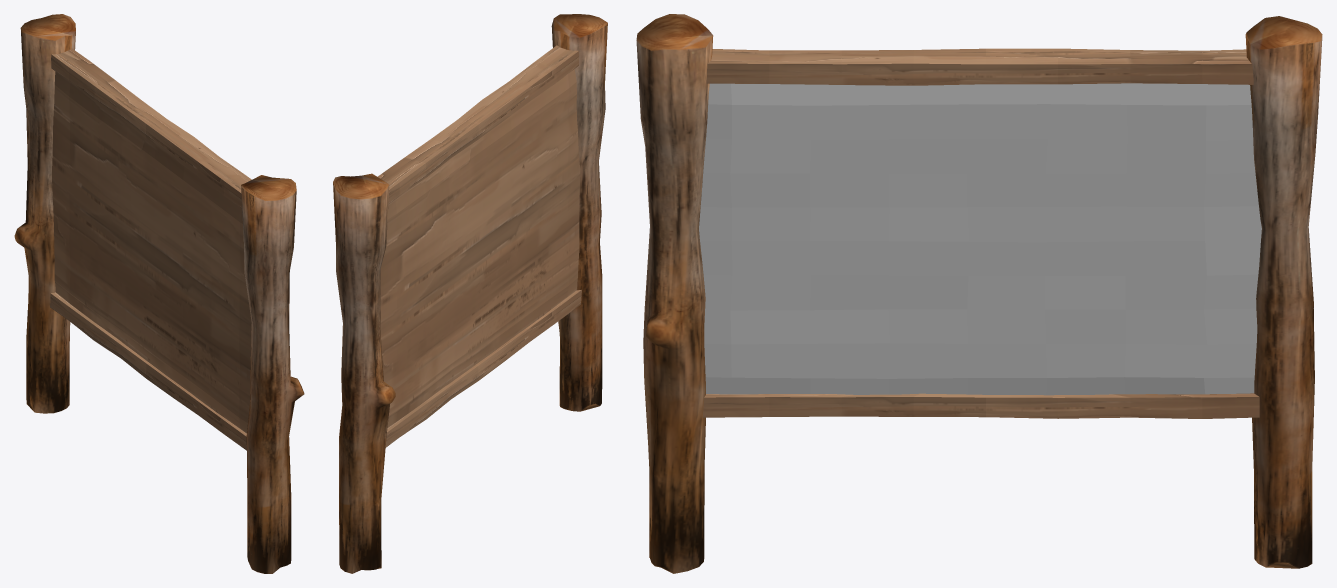
File: billboard.fbx
3 views of the same model, side by side, from view 1: azimuth 30°, elevation 25°; view 2: azimuth 150°, elevation 25°; view 3: azimuth 270°, elevation 25° (orthographic). The views are drawn at different scales.
Parts seen in each view (by area): view 1: Cube; view 2: Cube; view 3: Cube.
Part boxes in pixels (left/top/right/bottom): Cube: left=14, top=14, right=304, bottom=573; Cube: left=333, top=14, right=607, bottom=573; Cube: left=636, top=14, right=1322, bottom=573.
Size of the model in its own units: 48.54 by 280 by 328.
